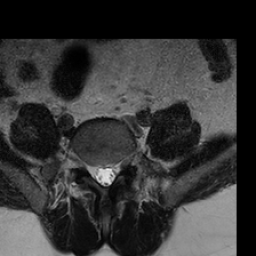CCS_normal: (100, 157, 108, 190)
LFS_normal: (117, 153, 126, 180)
LLS_normal: (109, 158, 117, 187)
RFS_normal: (81, 153, 90, 180)
RLS_normal: (91, 156, 100, 188)
